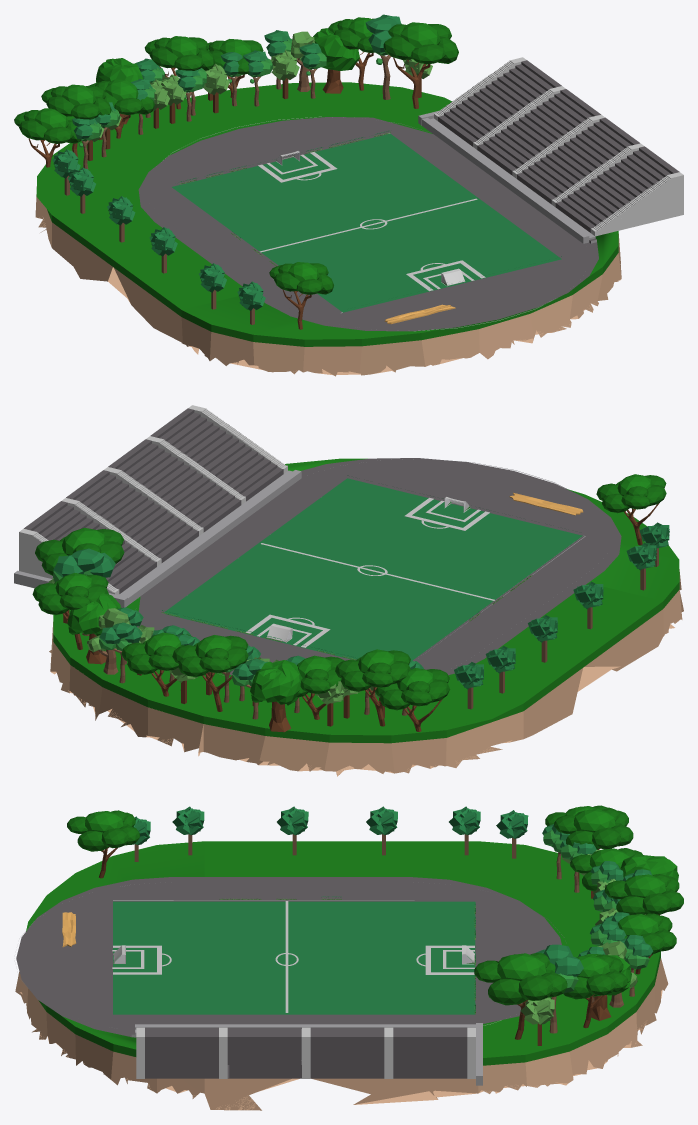
The model's file is Cancha8.glb.
3 views of the same model, one above another, from view 1: azimuth 30°, elevation 25°; view 2: azimuth 150°, elevation 25°; view 3: azimuth 270°, elevation 25° (orthographic). The views are drawn at different scales.
Parts seen in each view (by area): view 1: Cancha, PisoMundo, Cesped, Camino; view 2: Cancha, PisoMundo, Cesped, Camino, Arenero; view 3: Cancha, PisoMundo, Cesped, Camino.
Part boxes in pixels (x1,y1,x2,y2): Cancha: (14,14,683,331); PisoMundo: (35,82,621,376); Cesped: (172,133,561,312); Camino: (138,117,598,331); Cancha: (14,405,669,732); PisoMundo: (49,458,683,776); Cesped: (164,478,582,660); Camino: (137,458,621,675); Arenero: (509,492,583,515); Cancha: (19,805,683,1085); PisoMundo: (15,841,668,1110); Cesped: (113,901,475,1014); Camino: (16,877,561,1037).
Size of the model in its own units: 90.34 by 23.74 by 103.
